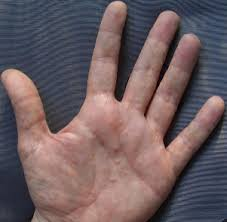palm: (53, 113, 174, 206)
